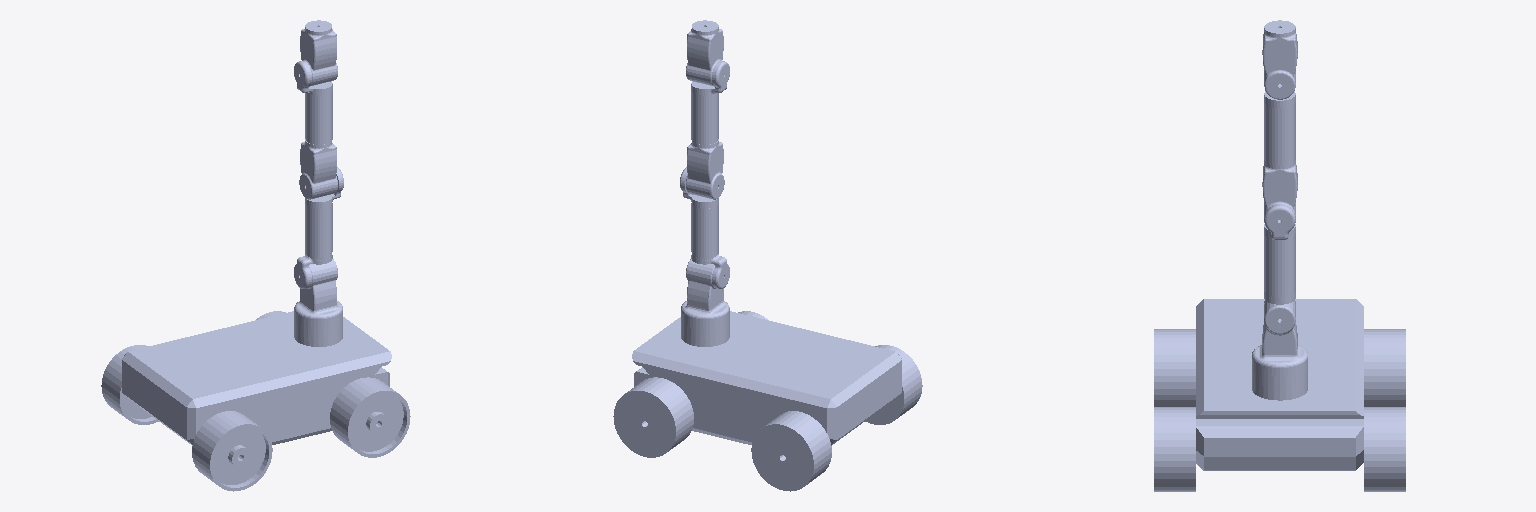
The robot description file, URDF, robot "mobile_manipulator":
<?xml version="1.0"?>

<robot name="mobile_manipulator">
<!--################################# BASE #####################################-->
  <link name="base_link">
    <inertial>
      <origin
        xyz="0.0030946 4.78250032638821E-11 0.053305"
        rpy="0 0 0" />
      <mass
        value="47.873" />
      <inertia
        ixx="0.774276574699151"
        ixy="-1.03781944357671E-10"
        ixz="0.00763014265820928"
        iyy="1.64933255189991"
        iyz="1.09578155845563E-12"
        izz="2.1239326987473" />
    </inertial>
    <visual>
      <origin
        xyz="0 0 0"
        rpy="1.5707963267949 0 3.14" />
      <geometry>
        <mesh filename="package://robot_description/meshes/robot_base.stl" />
      </geometry>
      <material
        name="">
        <color
          rgba="0.79216 0.81961 0.93333 1" />
      </material>
    </visual>
    <collision>
      <origin
        xyz="0 0 0"
        rpy="1.5707963267949 0 3.14" />
      <geometry>
        <mesh filename="package://robot_description/meshes/robot_base.stl" />
      </geometry>
    </collision>
  </link>

<link name="front_left_wheel">
    <inertial>
      <origin
        xyz="-4.1867E-18 0.0068085 -1.65658661799998E-18"
        rpy="0 0 0" />
      <mass
        value="2.6578" />
      <inertia
        ixx="0.00856502765719703"
        ixy="1.5074118157338E-19"
        ixz="-4.78150098725052E-19"
        iyy="0.013670640432096"
        iyz="-2.68136447099727E-19"
        izz="0.00856502765719703" />
    </inertial>
    <visual>
      <origin
        xyz="0 0 0"
        rpy="1.5707963267949 0 0" />
      <geometry>
        <mesh filename="package://robot_description/meshes/wheel.stl" />
      </geometry>
      <material
        name="">
        <color
          rgba="0.79216 0.81961 0.93333 1" />
      </material>
    </visual>
    <collision>
      <origin
        xyz="0 0 0"
        rpy="1.5707963267949 0 0" />
      <geometry>
        <mesh filename="package://robot_description/meshes/wheel.stl" />
      </geometry>
    </collision>
  </link>

<link name="front_right_wheel">
    <inertial>
      <origin
        xyz="-4.1867E-18 0.0068085 -1.65658661799998E-18"
        rpy="0 0 0" />
      <mass
        value="2.6578" />
      <inertia
        ixx="0.00856502765719703"
        ixy="1.5074118157338E-19"
        ixz="-4.78150098725052E-19"
        iyy="0.013670640432096"
        iyz="-2.68136447099727E-19"
        izz="0.00856502765719703" />
    </inertial>
    <visual>
      <origin
        xyz="0 0 0"
        rpy="1.5707963267949 0 0" />
      <geometry>
        <mesh filename="package://robot_description/meshes/wheel.stl" />
      </geometry>
      <material
        name="">
        <color
          rgba="0.79216 0.81961 0.93333 1" />
      </material>
    </visual>
    <collision>
      <origin
        xyz="0 0 0"
        rpy="1.5707963267949 0 0" />
      <geometry>
        <mesh filename="package://robot_description/meshes/wheel.stl" />
      </geometry>
    </collision>
  </link>

<link name="rear_left_wheel">
    <inertial>
      <origin
        xyz="-4.1867E-18 0.0068085 -1.65658661799998E-18"
        rpy="0 0 0" />
      <mass
        value="2.6578" />
      <inertia
        ixx="0.00856502765719703"
        ixy="1.5074118157338E-19"
        ixz="-4.78150098725052E-19"
        iyy="0.013670640432096"
        iyz="-2.68136447099727E-19"
        izz="0.00856502765719703" />
    </inertial>
    <visual>
      <origin
        xyz="0 0 0"
        rpy="1.5707963267949 0 0" />
      <geometry>
        <mesh filename="package://robot_description/meshes/wheel.stl" />
      </geometry>
      <material
        name="">
        <color
          rgba="0.79216 0.81961 0.93333 1" />
      </material>
    </visual>
    <collision>
      <origin
        xyz="0 0 0"
        rpy="1.5707963267949 0 0" />
      <geometry>
        <mesh filename="package://robot_description/meshes/wheel.stl" />
      </geometry>
    </collision>
  </link>

<link name="rear_right_wheel">
    <inertial>
      <origin
        xyz="-4.1867E-18 0.0068085 -1.65658661799998E-18"
        rpy="0 0 0" />
      <mass
        value="2.6578" />
      <inertia
        ixx="0.00856502765719703"
        ixy="1.5074118157338E-19"
        ixz="-4.78150098725052E-19"
        iyy="0.013670640432096"
        iyz="-2.68136447099727E-19"
        izz="0.00856502765719703" />
    </inertial>
    <visual>
      <origin
        xyz="0 0 0"
        rpy="1.5707963267949 0 0" />
      <geometry>
        <mesh filename="package://robot_description/meshes/wheel.stl" />
      </geometry>
      <material
        name="">
        <color
          rgba="0.79216 0.81961 0.93333 1" />
      </material>
    </visual>
    <collision>
      <origin
        xyz="0 0 0"
        rpy="1.5707963267949 0 0" />
      <geometry>
        <mesh filename="package://robot_description/meshes/wheel.stl" />
      </geometry>
    </collision>
  </link>


<joint name="front_left_wheel_joint" type="continuous">
    <axis xyz="0 1 0"/>
    <parent link ="base_link"/>
    <child link ="front_left_wheel"/>
    <origin rpy ="0 0 0" xyz= "0.220 0.250 0"/>
  </joint>


<joint name="front_right_wheel_joint" type="continuous">
    <axis xyz="0 1 0"/>
    <parent link ="base_link"/>
    <child link ="front_right_wheel"/>
    <origin rpy ="0 0 0" xyz= "0.220 -0.250 0"/>
  </joint>

<joint name="rear_left_wheel_joint" type="continuous">
    <axis xyz="0 1 0"/>
    <parent link ="base_link"/>
    <child link ="rear_left_wheel"/>
    <origin rpy ="0 0 0" xyz= "-0.220 0.250 0"/>
  </joint>

<joint name="rear_right_wheel_joint" type="continuous">
    <axis xyz="0 1 0"/>
    <parent link ="base_link"/>
    <child link ="rear_right_wheel"/>
    <origin rpy ="0 0 0" xyz= "-0.220 -0.250 0"/>
</joint>
<!--############################## ARM ########################################-->

 <link name="arm_base">
    <inertial>
      <origin
        xyz="7.7128E-09 -0.063005 -3.01969999961422E-08"
        rpy="0 0 0" />
      <mass
        value="1.6004" />
      <inertia
        ixx="0.00552196561445819"
        ixy="7.9550614501301E-10"
        ixz="-1.34378458924839E-09"
        iyy="0.00352397447953875"
        iyz="-1.10071809773382E-08"
        izz="0.00553739792746489" />
    </inertial>
    <visual>
      <origin
        xyz="0 0 0"
        rpy="0 0 0" />
      <geometry>
        <mesh filename="package://robot_description/meshes/arm_base.stl" />
      </geometry>
      <material
        name="">
        <color
          rgba="0.79216 0.81961 0.93333 1" />
      </material>
    </visual>
    <collision>
      <origin
        xyz="0 0 0"
        rpy="0 0 0" />
      <geometry>
        <mesh filename="package://robot_description/meshes/arm_base.stl" />
      </geometry>
    </collision>
</link>

<link
    name="bicep">
    <inertial>
      <origin
        xyz="0.12821 3.5589E-06 0.052492"
        rpy="0 0 0" />
      <mass
        value="1.1198" />
      <inertia
        ixx="0.0012474"
        ixy="-5.4004E-07"
        ixz="-0.0013148"
        iyy="0.0072923"
        iyz="-1.8586E-07"
        izz="0.0068178" />
    </inertial>
    <visual>
      <origin
        xyz="0 0 0"
        rpy="0 -1.5708 0" />
      <geometry>
        <mesh filename="package://robot_description/meshes/bicep.stl" />
      </geometry>
      <material
        name="">
        <color
          rgba="0.79216 0.81961 0.93333 1" />
      </material>
    </visual>
    <collision>
      <origin
        xyz="0 0 0"
        rpy="0 -1.5708 0" />
      <geometry>
        <mesh filename="package://robot_description/meshes/bicep.stl" />
      </geometry>
    </collision>
  </link>


  <link
    name="bottom_wrist">
    <inertial>
      <origin
        xyz="-9.1053E-08 -0.069257 -1.86629999995759E-07"
        rpy="0 0 0" />
      <mass
        value="0.27721" />
      <inertia
        ixx="0.00104290750143942"
        ixy="4.37155302268076E-09"
        ixz="-2.45049603914627E-09"
        iyy="0.000380518373895034"
        iyz="-7.56009835172156E-09"
        izz="0.00106006525067445" />
    </inertial>
    <visual>
      <origin
        xyz="0 0 0.13522"
        rpy="3.14 0 1.5708" />
      <geometry>
        <mesh filename="package://robot_description/meshes/wrist.stl" />
      </geometry>
      <material
        name="">
        <color
          rgba="0.79216 0.81961 0.93333 1" />
      </material>
    </visual>
    <collision>
      <origin
        xyz="0 0 0.13522"
        rpy="3.14 0 1.5708" />
      <geometry>
        <mesh filename="package://robot_description/meshes/wrist.stl" />
      </geometry>
    </collision>
  </link>

 <link
    name="elbow">
    <inertial>
      <origin
        xyz="-0.11109 1.1476E-08 0.046469"
        rpy="0 0 0" />
      <mass
        value="0.84845" />
      <inertia
        ixx="0.00079656"
        ixy="-7.8011E-10"
        ixz="0.00053616"
        iyy="0.003576"
        iyz="4.6326E-10"
        izz="0.0033698" />
    </inertial>
    <visual>
      <origin
        xyz="0.0 0.05163 0.20994"
        rpy="0 -1.5708 0" />
      <geometry>
        <mesh filename="package://robot_description/meshes/elbow.stl" />
      </geometry>
      <material
        name="">
        <color
          rgba="0.79216 0.81961 0.93333 1" />
      </material>
    </visual>
    <collision>
      <origin
        xyz="0.0 0.05163 0.20994"
        rpy="0 -1.5708 0" />
      <geometry>
        <mesh filename="package://robot_description/meshes/elbow.stl" />
      </geometry>
    </collision>
  </link>

<link
    name="top_wrist">
    <inertial>
      <origin
        xyz="-9.1053E-08 -0.069257 -1.86629999995759E-07"
        rpy="0 0 0" />
      <mass
        value="0.27721" />
      <inertia
        ixx="0.00104290750143942"
        ixy="4.37155302268076E-09"
        ixz="-2.45049603914627E-09"
        iyy="0.000380518373895034"
        iyz="-7.56009835172156E-09"
        izz="0.00106006525067445" />
    </inertial>
    <visual>
      <origin
        xyz="0 0 0.13522"
        rpy="3.14 0 1.5708" />
      <geometry>
        <mesh filename="package://robot_description/meshes/wrist.stl" />
      </geometry>
      <material
        name="">
        <color
          rgba="0.79216 0.81961 0.93333 1" />
      </material>
    </visual>
    <collision>
      <origin
        xyz="0 0 0.13522"
        rpy="3.14 0 1.5708" />
      <geometry>
        <mesh filename="package://robot_description/meshes/wrist.stl" />
      </geometry>
    </collision>
  </link>

<joint name="arm_base_joint" type="continuous">
  <axis xyz="0 0 1"/>
  <parent link="base_link"/>
  <child link="arm_base"/>
  <origin rpy="0 0 0" xyz="0.20 0.0 0.145"/>
</joint>

<joint name="shoulder_joint" type="continuous">
  <axis xyz="0 1 0"/>
  <parent link="arm_base"/>
  <child link="bicep"/>
  <origin rpy="0 0 1.5708" xyz="-0.05166 0.0 0.20271"/>
</joint>

<joint name="bottom_wrist_joint" type="continuous">
  <axis xyz="0 1 0"/>
  <parent link="bicep"/>
  <child link="bottom_wrist"/>
  <origin rpy="0 0 0" xyz="0.0 -0.05194 0.269"/>
</joint>

<joint name="elbow_joint" type="continuous">
  <axis xyz="0 0 1"/>
  <parent link="bottom_wrist"/>
  <child link="elbow"/>
  <origin rpy="0 0 0" xyz="0.0 0 0.13522"/>
</joint>

<joint name="top_wrist_joint" type="continuous">
  <axis xyz="0 1 0"/>
  <parent link="elbow"/>
  <child link="top_wrist"/>
  <origin rpy="0 0 0" xyz="0.0 0 0.20994"/>
</joint>


<!--########################## BASE TRANSMISSIONS ############################################-->
<transmission name="front_left_wheel_trans" type="SimpleTransmission">
  <type>transmission_interface/SimpleTransmission</type>
  <actuator name="front_left_wheel_motor">
   <hardwareInterface>hardware_interface/VelocityJointInterface</hardwareInterface>
   <mechanicalReduction>1</mechanicalReduction>
  </actuator>
  <joint name="front_left_wheel_joint">
   <hardwareInterface>hardware_interface/VelocityJointInterface</hardwareInterface>
  </joint>
</transmission>

<transmission name="front_right_wheel_trans" type="SimpleTransmission">
  <type>transmission_interface/SimpleTransmission</type>
  <actuator name="front_right_wheel_motor">
   <hardwareInterface>hardware_interface/VelocityJointInterface</hardwareInterface>
   <mechanicalReduction>1</mechanicalReduction>
  </actuator>
  <joint name="front_right_wheel_joint">
   <hardwareInterface>hardware_interface/VelocityJointInterface</hardwareInterface>
  </joint>
</transmission>

<transmission name="rear_left_wheel_trans" type="SimpleTransmission">
  <type>transmission_interface/SimpleTransmission</type>
  <actuator name="rear_left_wheel_motor">
   <hardwareInterface>hardware_interface/VelocityJointInterface</hardwareInterface>
   <mechanicalReduction>1</mechanicalReduction>
  </actuator>
  <joint name="rear_left_wheel_joint">
   <hardwareInterface>hardware_interface/VelocityJointInterface</hardwareInterface>
  </joint>
</transmission>

<transmission name="rear_right_wheel_trans" type="SimpleTransmission">
  <type>transmission_interface/SimpleTransmission</type>
  <actuator name="rear_right_wheel_motor">
   <hardwareInterface>hardware_interface/VelocityJointInterface</hardwareInterface>
   <mechanicalReduction>1</mechanicalReduction>
  </actuator>
  <joint name="rear_right_wheel_joint">
   <hardwareInterface>hardware_interface/VelocityJointInterface</hardwareInterface>
  </joint>
</transmission>
<!--################################ ARM TRANSIMISSIONS ######################################-->
<transmission name="arm_base_trans" type="SimpleTransmission">
  <type>transmission_interface/SimpleTransmission</type>
  <actuator name="arm_base_motor">
   <hardwareInterface>hardware_interface/PositionJointInterface</hardwareInterface>
   <mechanicalReduction>1</mechanicalReduction>
  </actuator>
  <joint name="arm_base_joint">
   <hardwareInterface>hardware_interface/PositionJointInterface</hardwareInterface>
  </joint>
</transmission>

<transmission name="shoulder_trans" type="SimpleTransmission">
  <type>transmission_interface/SimpleTransmission</type>
  <actuator name="shoulder_motor">
   <hardwareInterface>hardware_interface/PositionJointInterface</hardwareInterface>
   <mechanicalReduction>1</mechanicalReduction>
  </actuator>
  <joint name="shoulder_joint">
   <hardwareInterface>hardware_interface/PositionJointInterface</hardwareInterface>
  </joint>
</transmission>

<transmission name="bottom_wrist_trans" type="SimpleTransmission">
  <type>transmission_interface/SimpleTransmission</type>
  <actuator name="bottom_wrist_motor">
   <hardwareInterface>hardware_interface/PositionJointInterface</hardwareInterface>
   <mechanicalReduction>1</mechanicalReduction>
  </actuator>
  <joint name="bottom_wrist_joint">
   <hardwareInterface>hardware_interface/PositionJointInterface</hardwareInterface>
  </joint>
</transmission>

<transmission name="elbow_trans" type="SimpleTransmission">
  <type>transmission_interface/SimpleTransmission</type>
  <actuator name="elbow_motor">
   <hardwareInterface>hardware_interface/PositionJointInterface</hardwareInterface>
   <mechanicalReduction>1</mechanicalReduction>
  </actuator>
  <joint name="elbow_joint">
   <hardwareInterface>hardware_interface/PositionJointInterface</hardwareInterface>
  </joint>
</transmission>

<transmission name="top_wrist_trans" type="SimpleTransmission">
  <type>transmission_interface/SimpleTransmission</type>
  <actuator name="top_wrist_motor">
   <hardwareInterface>hardware_interface/PositionJointInterface</hardwareInterface>
   <mechanicalReduction>1</mechanicalReduction>
  </actuator>
  <joint name="top_wrist_joint">
   <hardwareInterface>hardware_interface/PositionJointInterface</hardwareInterface>
  </joint>
</transmission>

<!--######################################################################-->
<gazebo>
    <plugin name="gazebo_ros_control" filename="libgazebo_ros_control.so">
      <robotNamespace>/</robotNamespace>
      <controlPeriod>0.001</controlPeriod>
      <legacyModeNS>false</legacyModeNS>
    </plugin>
  </gazebo>
<!--######################################################################-->
  <gazebo>
    <plugin name="joint_state_publisher" filename="libgazebo_ros_joint_state_publisher.so">
      <jointName>arm_base_joint, shoulder_joint, bottom_wrist_joint, elbow_joint, bottom_wrist_joint</jointName>
    </plugin>
  </gazebo>
<!--######################################################################-->

<!--######################################################################-->
<gazebo>
      <plugin name="diff_drive_controller" filename="libgazebo_ros_diff_drive.so">
        <legacyMode>false</legacyMode>
        <alwaysOn>true</alwaysOn>
        <updateRate>1000.0</updateRate>
        <leftJoint>front_left_wheel_joint, rear_left_wheel_joint</leftJoint>
        <rightJoint>front_right_wheel_joint, rear_right_wheel_joint</rightJoint>
        <wheelSeparation>0.5</wheelSeparation>
        <wheelDiameter>0.2</wheelDiameter>
        <wheelTorque>10</wheelTorque>
        <publishTf>1</publishTf>
        <odometryFrame>map</odometryFrame>
        <commandTopic>cmd_vel</commandTopic>
        <odometryTopic>odom</odometryTopic>
        <robotBaseFrame>base_link</robotBaseFrame>
        <wheelAcceleration>2.8</wheelAcceleration>
        <publishWheelJointState>true</publishWheelJointState>
        <publishWheelTF>false</publishWheelTF>
        <odometrySource>world</odometrySource>
        <rosDebugLevel>Debug</rosDebugLevel>
      </plugin>
</gazebo>
<!--######################################################################-->
<gazebo reference="front_left_wheel">
 <mu1 value="1.0"/>
 <mu2 value="1.0"/>
 <kp value="10000000.0" />
 <kd value="1.0" />
 <fdir1 value="1 0 0"/>
</gazebo>

<gazebo reference="front_right_wheel">
 <mu1 value="1.0"/>
 <mu2 value="1.0"/>
 <kp value="10000000.0" />
 <kd value="1.0" />
 <fdir1 value="1 0 0"/>
</gazebo>

<gazebo reference="rear_left_wheel">
 <mu1 value="1.0"/>
 <mu2 value="1.0"/>
 <kp value="10000000.0" />
 <kd value="1.0" />
 <fdir1 value="1 0 0"/>
</gazebo>

<gazebo reference="rear_left_wheel">
 <mu1 value="1.0"/>
 <mu2 value="1.0"/>
 <kp value="10000000.0" />
 <kd value="1.0" />
 <fdir1 value="1 0 0"/>
</gazebo>
<!--######################################################################-->

</robot>

--- Facts derived from the render (not from the file) ---
3 views of the same robot in one strip: view 1: azimuth 30°, elevation 25°; view 2: azimuth 150°, elevation 25°; view 3: azimuth 270°, elevation 25° (orthographic).
Model mobile_manipulator with 10 links and 9 joints (9 continuous), rooted at base_link, posed every joint at zero.
Links seen in each view (by area): view 1: base_link, rear_right_wheel, front_right_wheel, arm_base, bicep, elbow, bottom_wrist, top_wrist, rear_left_wheel; view 2: base_link, front_left_wheel, rear_left_wheel, arm_base, bicep, elbow, bottom_wrist, top_wrist, rear_right_wheel; view 3: base_link, arm_base, front_left_wheel, front_right_wheel, rear_left_wheel, rear_right_wheel, bicep, top_wrist, elbow, bottom_wrist.
Link boxes in pixels (box(x1,y1,x2,y2)): base_link: box(122, 311, 391, 445); rear_right_wheel: box(192, 411, 272, 491); front_right_wheel: box(330, 377, 410, 457); arm_base: box(294, 259, 342, 346); bicep: box(294, 167, 343, 288); elbow: box(294, 61, 332, 144); bottom_wrist: box(299, 139, 337, 199); top_wrist: box(300, 20, 337, 85); rear_left_wheel: box(101, 345, 158, 424); base_link: box(632, 311, 901, 445); front_left_wheel: box(613, 377, 693, 457); rear_left_wheel: box(751, 411, 831, 491); arm_base: box(681, 259, 729, 346); bicep: box(680, 167, 729, 288); elbow: box(691, 61, 729, 144); bottom_wrist: box(686, 139, 724, 199); top_wrist: box(686, 20, 723, 85); rear_right_wheel: box(865, 345, 922, 424); base_link: box(1196, 299, 1363, 470); arm_base: box(1252, 301, 1307, 400); front_left_wheel: box(1364, 407, 1405, 491); front_right_wheel: box(1154, 407, 1195, 491); rear_left_wheel: box(1364, 329, 1405, 406); rear_right_wheel: box(1154, 329, 1195, 406); bicep: box(1264, 204, 1295, 304); top_wrist: box(1262, 20, 1297, 99); elbow: box(1264, 91, 1295, 165); bottom_wrist: box(1262, 160, 1297, 215).
Bounding box of the posed robot: 0.6506 × 0.6 × 1.2 m (x, y, z).
Meshes: 6 distinct files referenced, 10 mesh visuals loaded (6 binary STL).